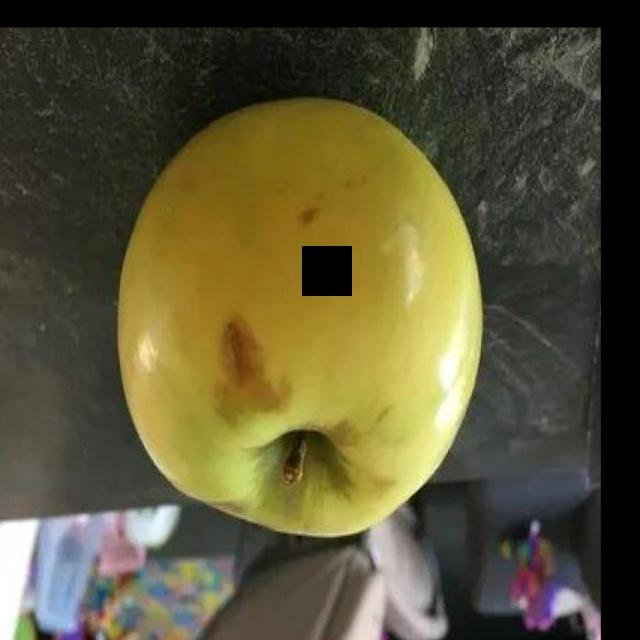green apple: (115, 95, 484, 540)
